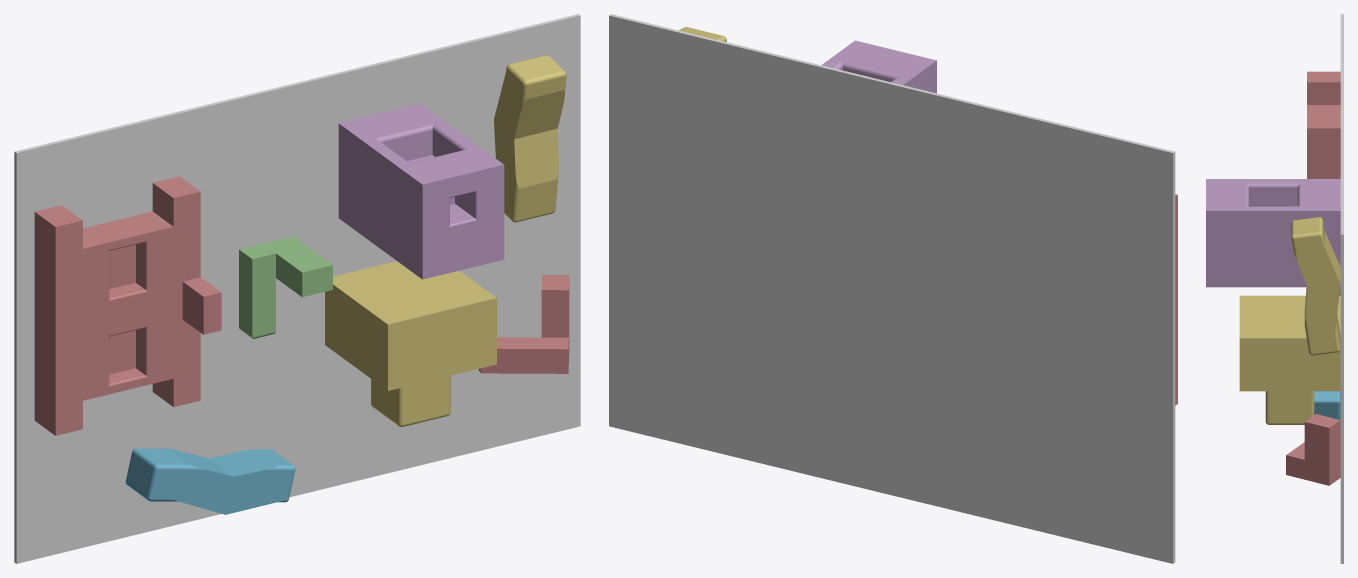
File: pickup_layout.glb
The picture shows the model from 3 angles, left to right: view 1: azimuth 30°, elevation 25°; view 2: azimuth 150°, elevation 25°; view 3: azimuth 270°, elevation 25°; orthographic projection. The views are drawn at different scales.
Visible parts, largest first — view 1: world, 0.obj, 3.obj, 6.obj, 1.obj, 2.obj, 4.obj, 5.obj; view 2: world, 3.obj; view 3: 3.obj, 6.obj, 1.obj, 0.obj, 5.obj, world, 2.obj.
Part boxes in pixels (bbox=[...]): world: bbox=[14, 14, 580, 563]; 0.obj: bbox=[34, 176, 221, 435]; 3.obj: bbox=[338, 103, 504, 279]; 6.obj: bbox=[325, 261, 496, 427]; 1.obj: bbox=[494, 55, 566, 222]; 2.obj: bbox=[125, 448, 295, 514]; 4.obj: bbox=[239, 236, 332, 338]; 5.obj: bbox=[478, 275, 569, 373]; world: bbox=[609, 14, 1175, 563]; 3.obj: bbox=[821, 40, 936, 93]; 3.obj: bbox=[1206, 179, 1340, 287]; 6.obj: bbox=[1239, 295, 1340, 424]; 1.obj: bbox=[1291, 217, 1340, 355]; 0.obj: bbox=[1307, 71, 1340, 295]; 5.obj: bbox=[1286, 414, 1340, 485]; world: bbox=[1340, 14, 1343, 563]; 2.obj: bbox=[1314, 391, 1340, 419].
Bounding box in the file's own units: 31.08 × 21.63 × 8.2.
